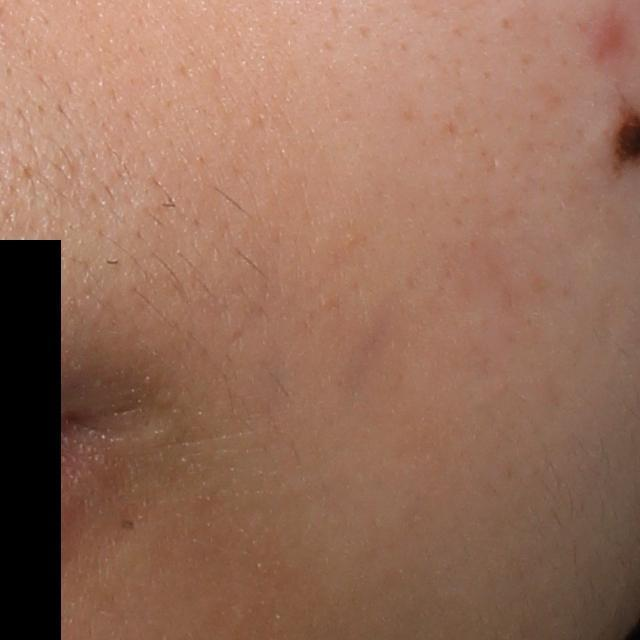comedo: (116, 514, 140, 537)
